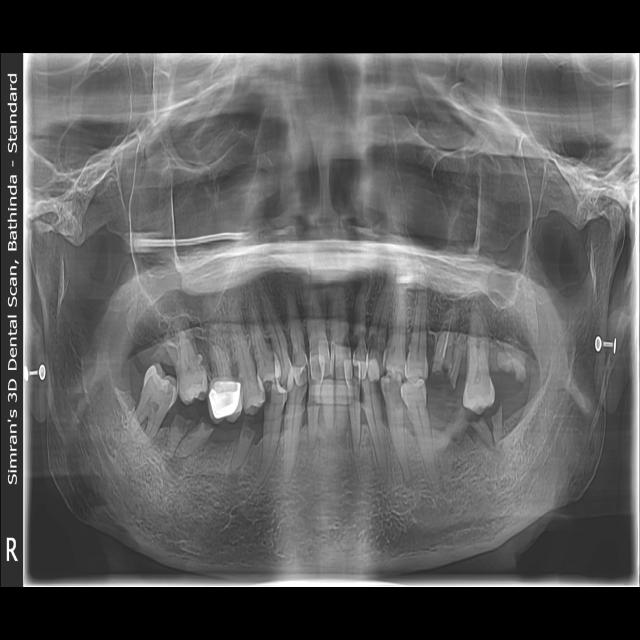Root Piece: (175, 417, 214, 459), (432, 307, 457, 372), (230, 421, 255, 471), (165, 415, 191, 458), (448, 333, 466, 389), (498, 350, 526, 383), (432, 331, 453, 374), (470, 417, 494, 448), (491, 402, 502, 451)
